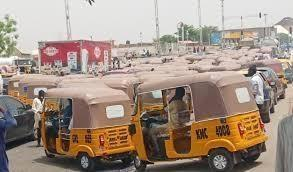keke: (136, 70, 240, 170), (38, 88, 134, 172)
